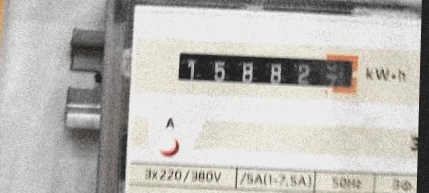1: (184, 56, 199, 79)
2: (295, 61, 311, 86)
5: (212, 57, 226, 82)
7: (325, 69, 337, 86)
8: (268, 60, 282, 85), (240, 60, 253, 83)
screen: (168, 42, 367, 102)
